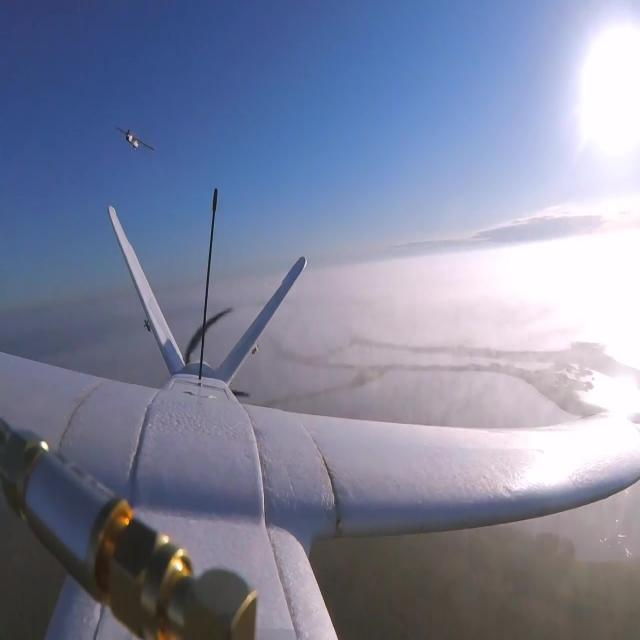iha: (106, 117, 150, 149)
